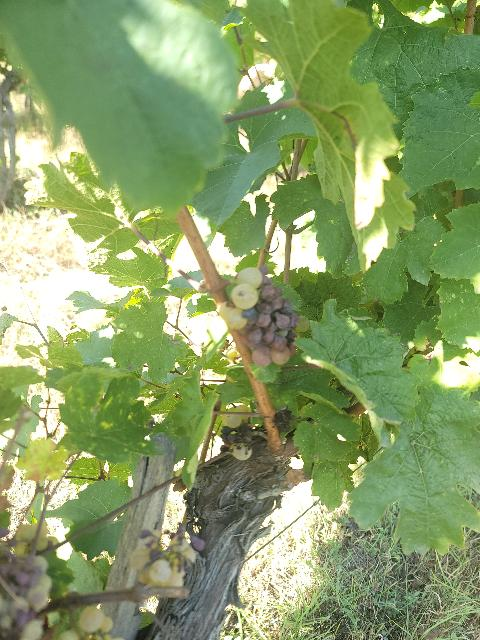grapes: (231, 265, 300, 366)
